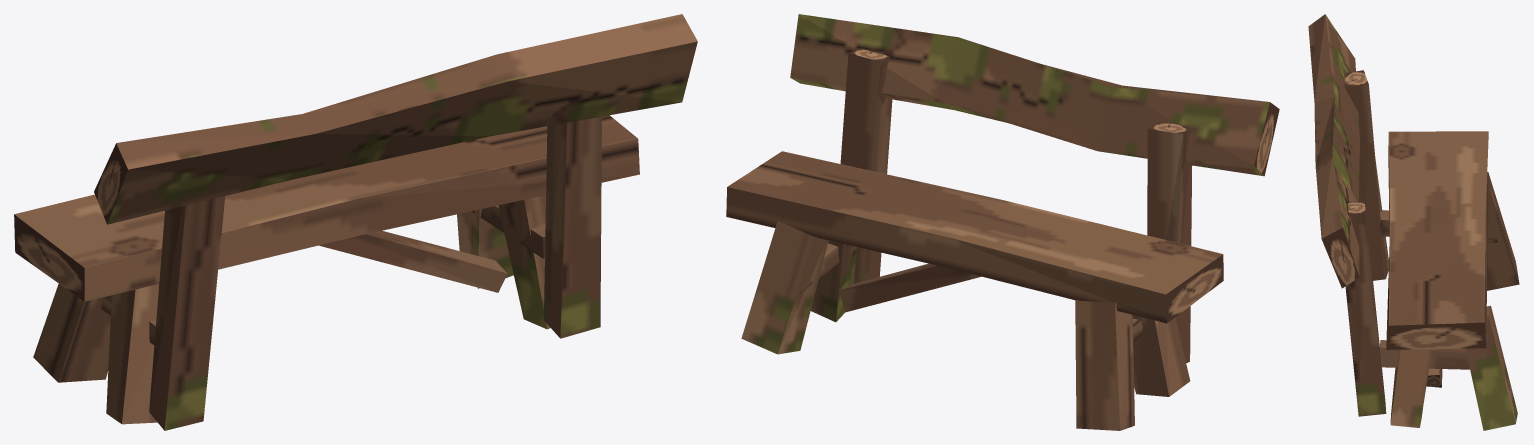
Rendered from SM_ST12_Bench.fbx.
3 renders of one model, left to right at view 1: azimuth 30°, elevation 25°; view 2: azimuth 150°, elevation 25°; view 3: azimuth 270°, elevation 25°, orthographic. The views are drawn at different scales.
Parts seen in each view (by area): view 1: ST12_Bench; view 2: ST12_Bench; view 3: ST12_Bench.
Part boxes in pixels (<box>): ST12_Bench: <box>14,14,697,430</box>; ST12_Bench: <box>726,14,1279,430</box>; ST12_Bench: <box>1308,14,1519,430</box>.
Bounding box in the file's own units: 1.59 × 0.9051 × 0.7146.
